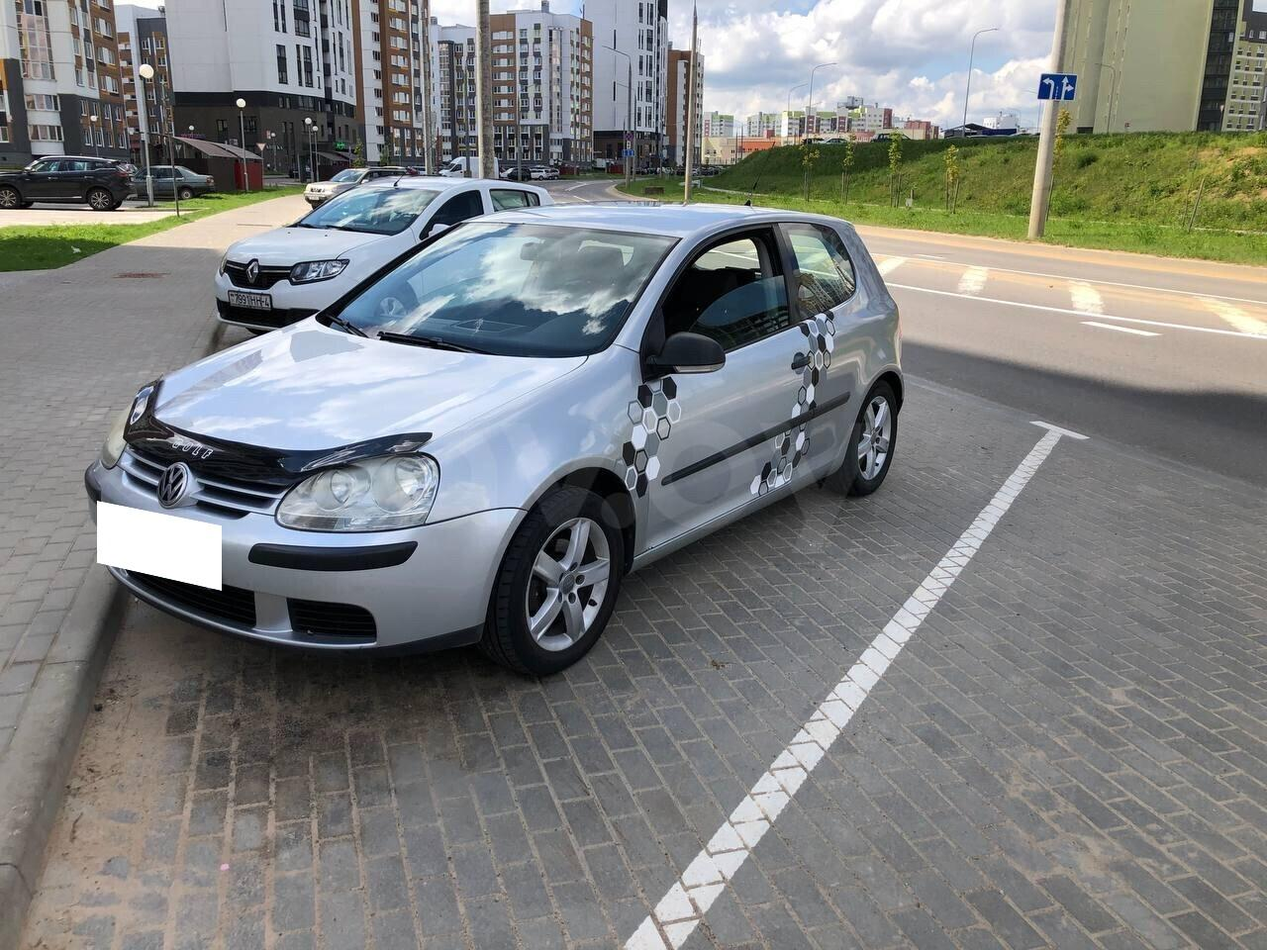Golf_2003-2009: (82, 200, 907, 687)
